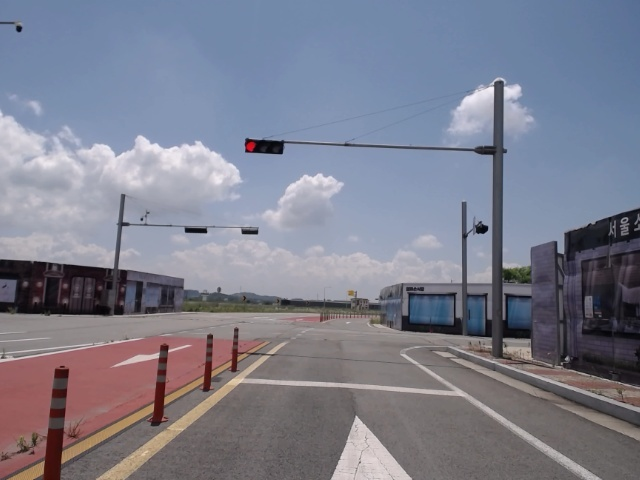red_3: (244, 139, 287, 153)
